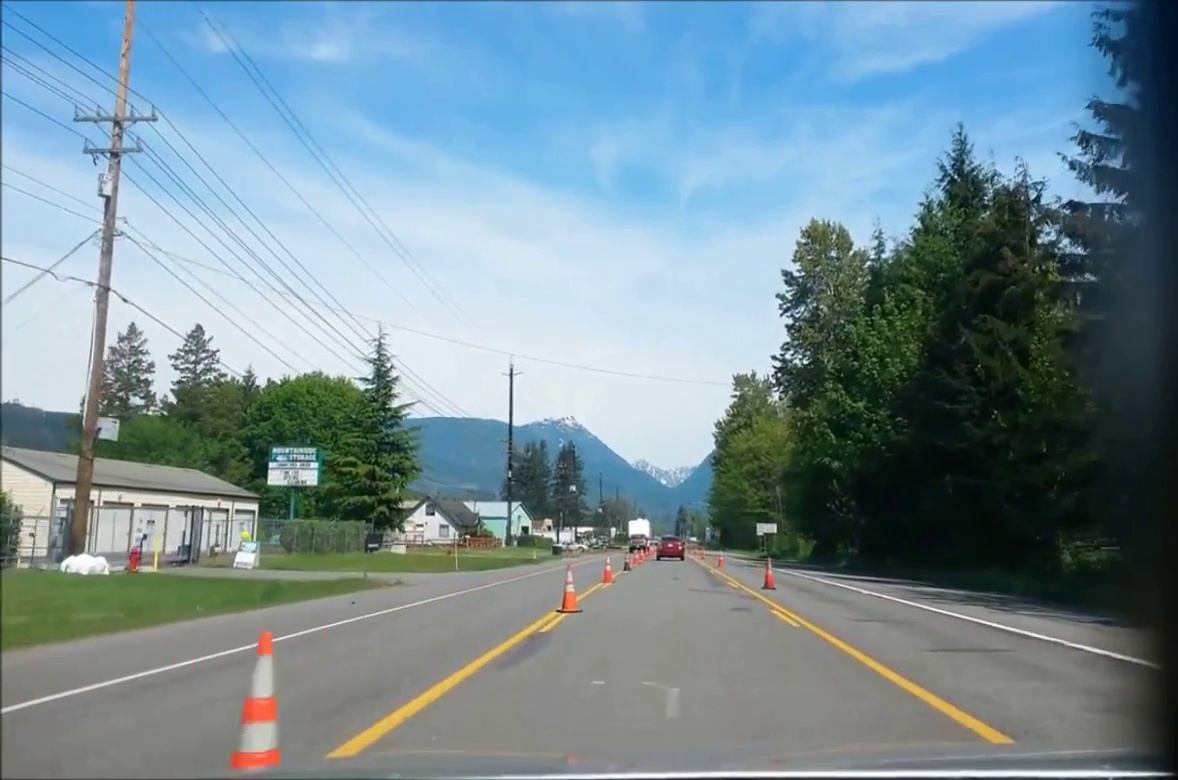Cone: (226, 630, 293, 764), (559, 563, 584, 609)
